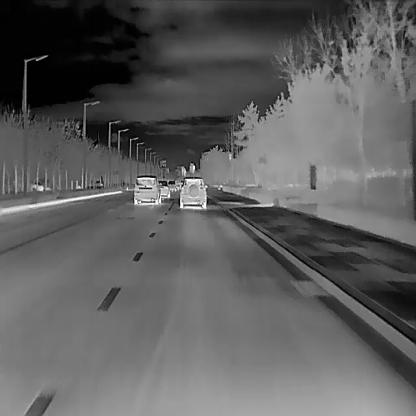car: (180, 176, 208, 208), (133, 174, 161, 205), (157, 180, 170, 198), (167, 180, 176, 192), (173, 179, 180, 189)
